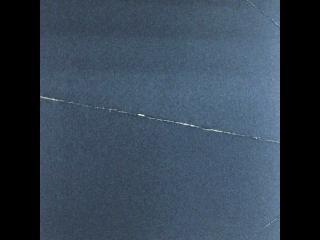crack: (38, 83, 280, 154)
